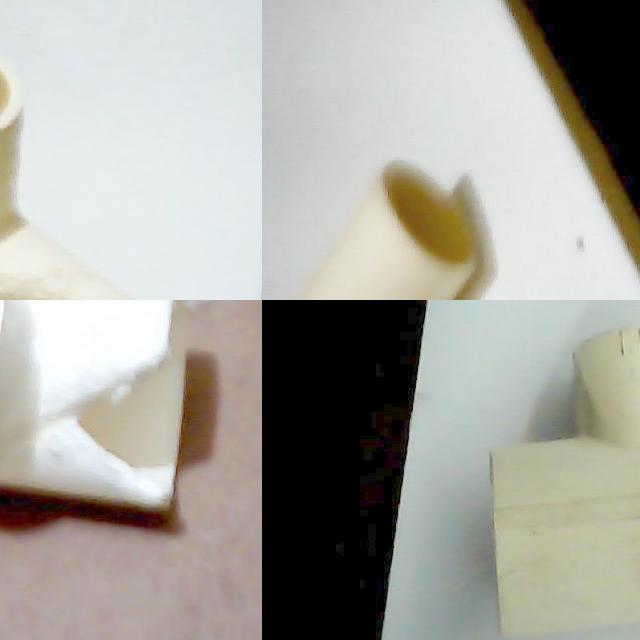Defective: (32, 300, 184, 536)
T Joint: (488, 326, 640, 640), (301, 162, 479, 300)
